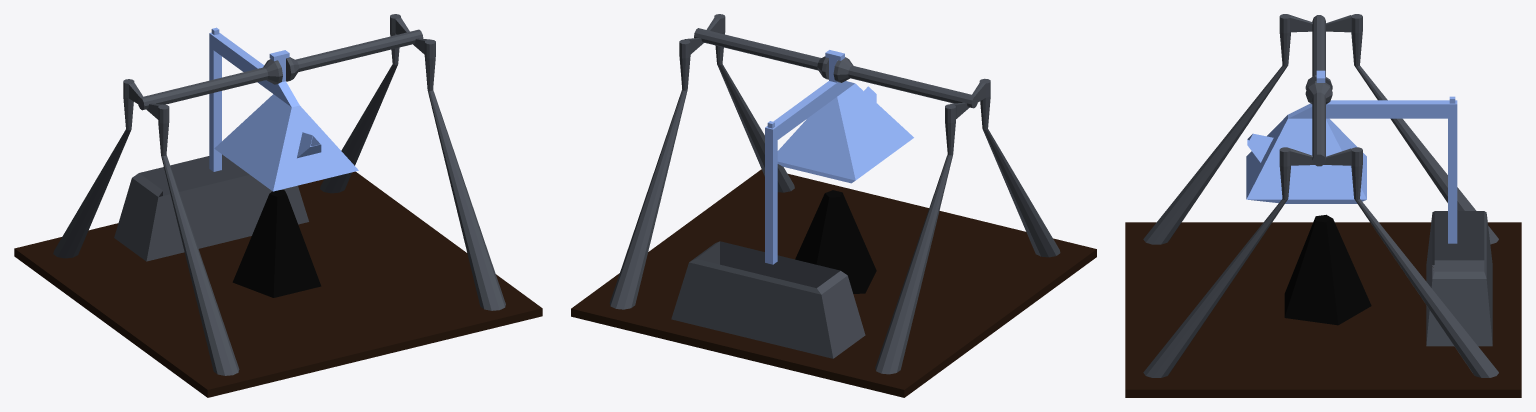
File: EssenceExtractor.fbx
3 views of the same model, side by side, from view 1: azimuth 30°, elevation 25°; view 2: azimuth 150°, elevation 25°; view 3: azimuth 270°, elevation 25° (orthographic). The views are drawn at different scales.
Visible parts, largest first — view 1: Plane, Holder, ExtractorBowl, ExtractorBottle, Candle; view 2: Plane, Holder, ExtractorBowl, ExtractorBottle, Candle; view 3: Plane, Holder, ExtractorBottle, ExtractorBowl, Candle.
Part boxes in pixels (x1,y1,x2,y2): Plane: [14, 171, 542, 397]; Holder: [53, 14, 505, 375]; ExtractorBowl: [114, 154, 308, 261]; ExtractorBottle: [209, 27, 358, 191]; Candle: [232, 190, 321, 297]; Plane: [571, 169, 1096, 397]; Holder: [609, 14, 1060, 374]; ExtractorBowl: [671, 241, 865, 358]; ExtractorBottle: [765, 50, 913, 264]; Candle: [795, 190, 876, 293]; Plane: [1125, 222, 1521, 397]; Holder: [1143, 14, 1498, 377]; ExtractorBottle: [1246, 70, 1457, 243]; ExtractorBowl: [1426, 211, 1492, 346]; Candle: [1284, 214, 1371, 325].
Bounding box in the file's own units: 200 × 133 × 200.
